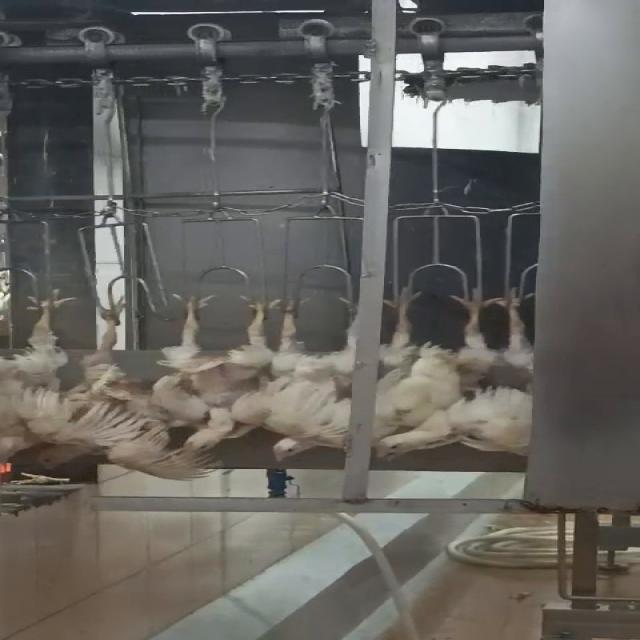chicken: (160, 291, 288, 457), (372, 284, 482, 466), (73, 285, 163, 465), (261, 290, 355, 462), (3, 292, 78, 480), (484, 284, 534, 458)
